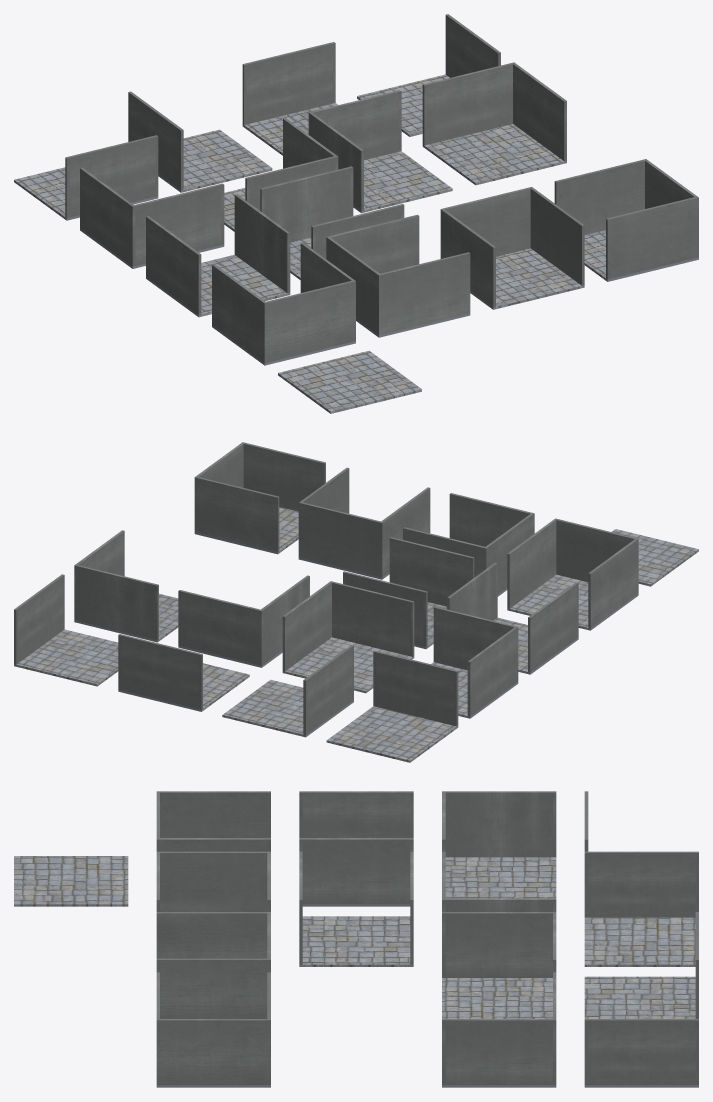
File: Tiles.glb
The picture shows the model from 3 angles, top to bottom: view 1: azimuth 30°, elevation 25°; view 2: azimuth 150°, elevation 25°; view 3: azimuth 270°, elevation 25°; orthographic projection. The views are drawn at different scales.
Visible parts, largest first — view 1: Tile_SW, Tile_S, Tile_W, Tile_E, Tile_N, Tile_SN, Tile_ES, Tile_EN, Tile_ESW, Tile_EW, Tile_ESN, Tile_EWN (+3 smaller); view 2: Tile_W, Tile_N, Tile_WN, Tile_EWN, Tile_S, Tile_SW, Tile_ES, Tile_EN, Tile_SWN, Tile_ESW, Tile_ESN, Tile_EW (+3 smaller); view 3: Tile_ESN, Tile_SN, Tile_EN, Tile_ES, Tile_S, Tile_W, Tile_SW, Tile_SWN, Tile_N, Tile_E, Tile_EW, Tile_ESWN (+2 smaller).
Part boxes in pixels (x1=…): Tile_SW: x1=422, y1=62, x2=566, y2=185; Tile_S: x1=440, y1=187, x2=584, y2=309; Tile_W: x1=554, y1=159, x2=698, y2=281; Tile_E: x1=326, y1=214, x2=470, y2=337; Tile_N: x1=212, y1=242, x2=355, y2=365; Tile_SN: x1=146, y1=194, x2=290, y2=317; Tile_ES: x1=308, y1=90, x2=452, y2=213; Tile_EN: x1=80, y1=167, x2=224, y2=268; Tile_ESW: x1=242, y1=42, x2=338, y2=155; Tile_EW: x1=260, y1=166, x2=404, y2=279; Tile_ESN: x1=128, y1=91, x2=272, y2=192; Tile_EWN: x1=14, y1=135, x2=158, y2=220; Tile_W: x1=194, y1=442, x2=325, y2=554; Tile_N: x1=507, y1=518, x2=638, y2=630; Tile_WN: x1=282, y1=581, x2=414, y2=693; Tile_EWN: x1=326, y1=650, x2=458, y2=762; Tile_S: x1=298, y1=467, x2=430, y2=579; Tile_SW: x1=74, y1=530, x2=178, y2=642; Tile_ES: x1=178, y1=575, x2=309, y2=667; Tile_EN: x1=431, y1=606, x2=518, y2=718; Tile_SWN: x1=14, y1=574, x2=118, y2=686; Tile_ESW: x1=118, y1=634, x2=249, y2=711; Tile_ESN: x1=222, y1=645, x2=353, y2=737; Tile_EW: x1=343, y1=537, x2=474, y2=649; Tile_ESN: x1=584, y1=851, x2=698, y2=966; Tile_SN: x1=299, y1=791, x2=413, y2=906; Tile_EN: x1=442, y1=791, x2=556, y2=898; Tile_ES: x1=442, y1=912, x2=556, y2=1018; Tile_S: x1=156, y1=912, x2=270, y2=1018; Tile_W: x1=156, y1=972, x2=270, y2=1087; Tile_SW: x1=442, y1=972, x2=556, y2=1087; Tile_SWN: x1=584, y1=1019, x2=698, y2=1087; Tile_N: x1=156, y1=791, x2=270, y2=851; Tile_E: x1=156, y1=851, x2=270, y2=911; Tile_EW: x1=299, y1=851, x2=413, y2=966; Tile_ESWN: x1=14, y1=856, x2=128, y2=906.
Size of the model in its own units: 19 by 2.6 by 24.
Materials: 4 (4 with a texture image).
